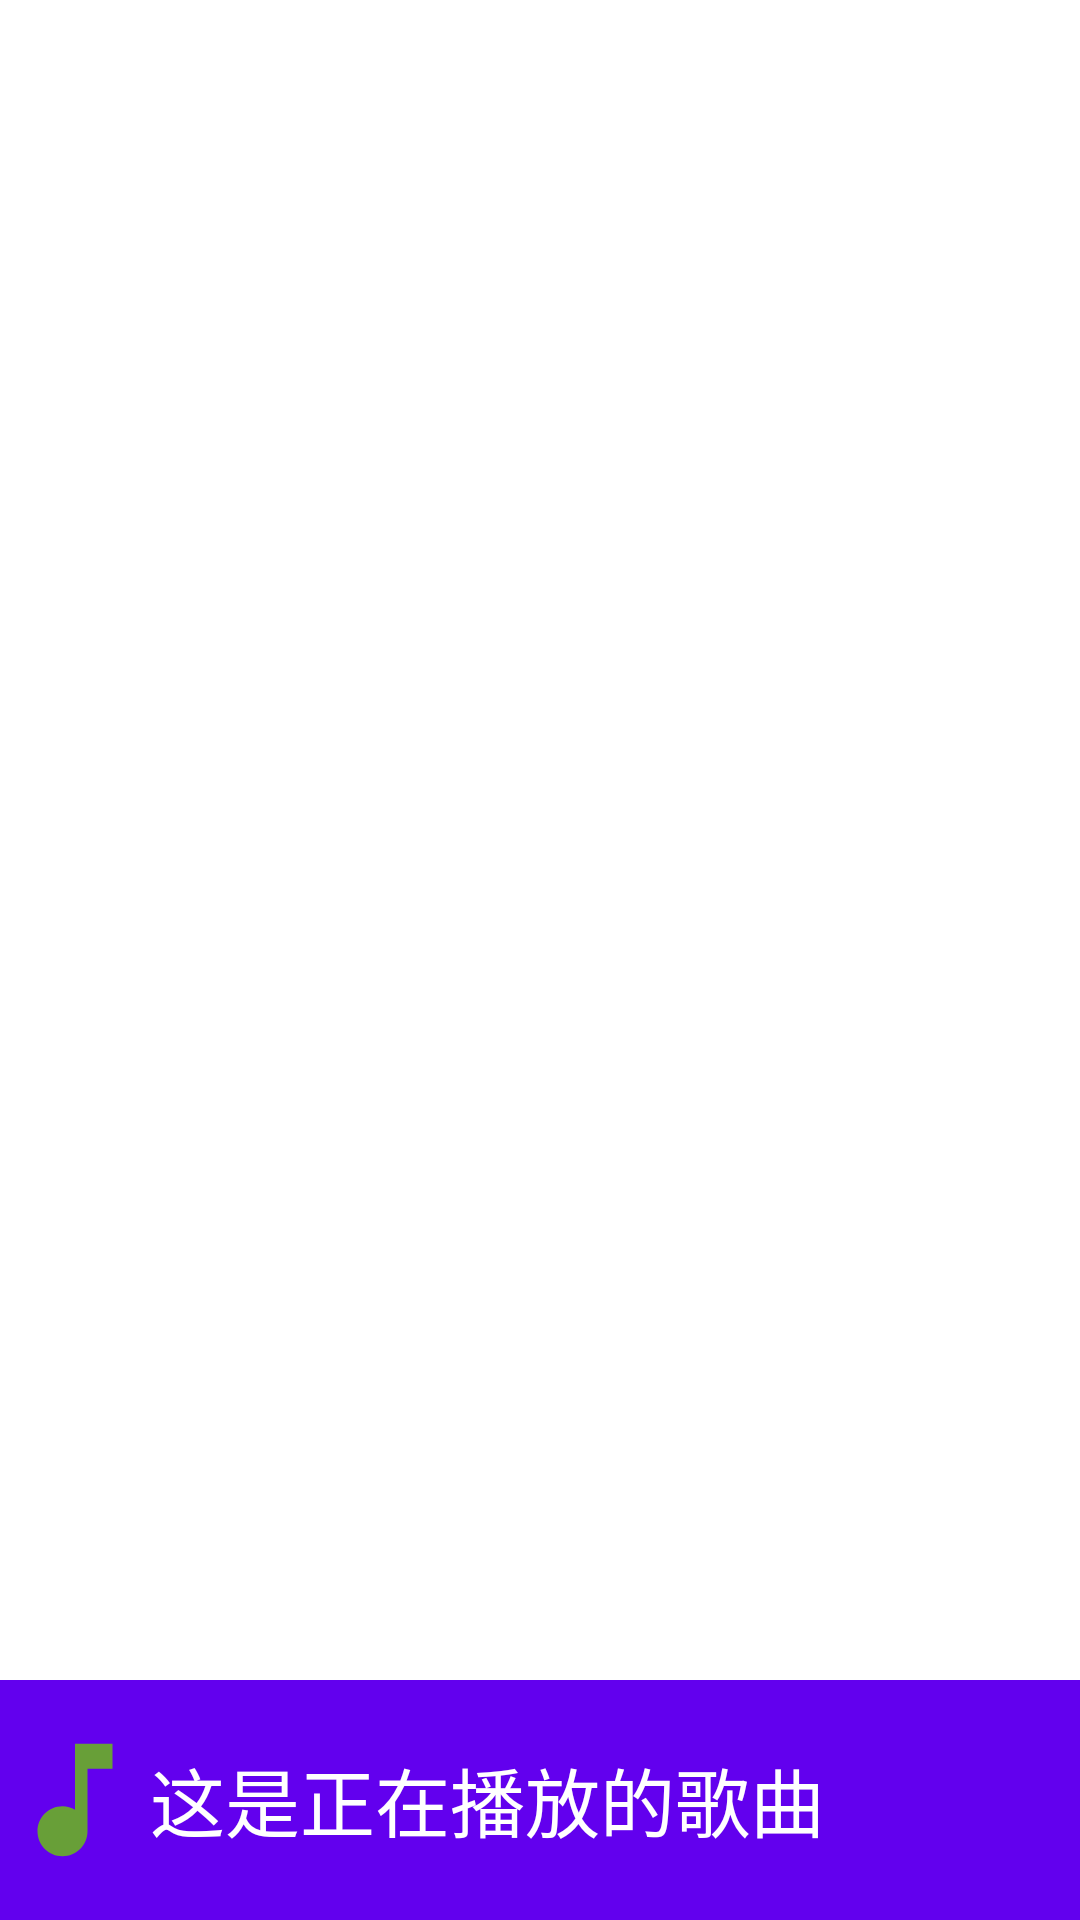

Screen size 1080px x 1920px. Icon name, then its center in pixels as point (x, y):
music note: point (75, 1800)
